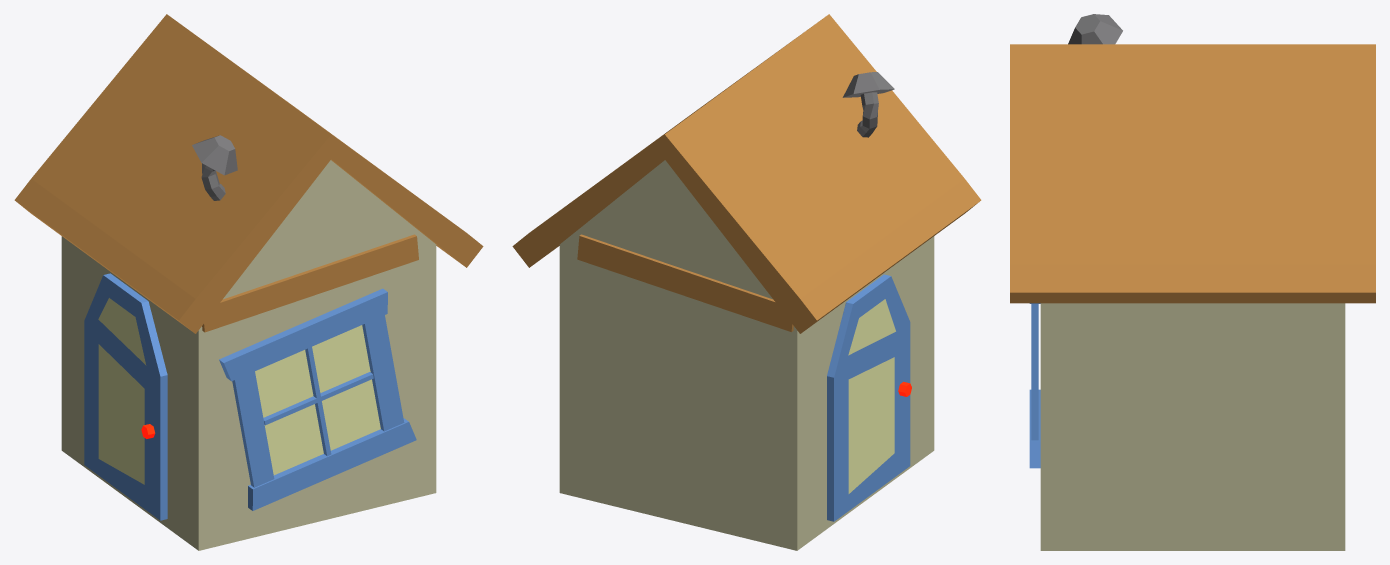
File: water-house.fbx
The picture shows the model from 3 angles, left to right: view 1: azimuth 30°, elevation 25°; view 2: azimuth 150°, elevation 25°; view 3: azimuth 270°, elevation 25°; orthographic projection. The views are drawn at different scales.
Visible parts, largest first — view 1: roof, house, window.001, dome-door, Cube.002, chimney.001; view 2: house, roof, dome-door, Cube.001, chimney.001; view 3: roof, house, window.001, chimney.001.
Part boxes in pixels (x1,y1,x2,y2): roof: (14, 14, 483, 333); house: (61, 160, 436, 550); window.001: (219, 288, 416, 510); dome-door: (84, 273, 167, 520); Cube.002: (202, 234, 418, 332); chimney.001: (192, 135, 237, 200); house: (559, 160, 934, 550); roof: (512, 14, 981, 333); dome-door: (827, 274, 910, 521); Cube.001: (577, 234, 793, 331); chimney.001: (842, 72, 894, 137); roof: (1010, 44, 1375, 303); house: (1040, 303, 1345, 550); window.001: (1029, 303, 1040, 468); chimney.001: (1068, 14, 1122, 44).
Size of the model in its own units: 257 by 320 by 240.
